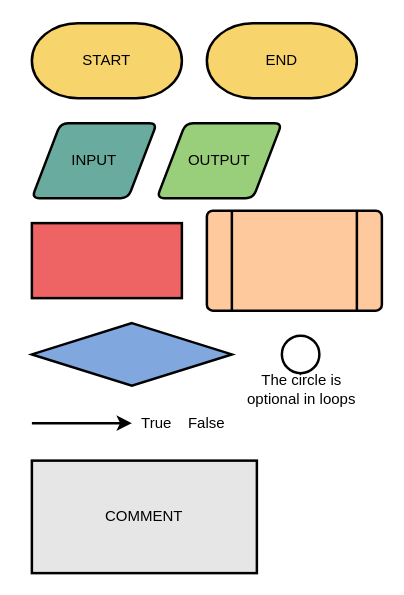
Some shapes in this 404 by 595 pixel diagram are drawn without their labels. The centre of each missing label's shape, as x and y in pixels:
"CONDITIONAL" goes at point 131,353.
"FUNCTION" goes at point 293,260.
"PROCESS" goes at point 106,260.
